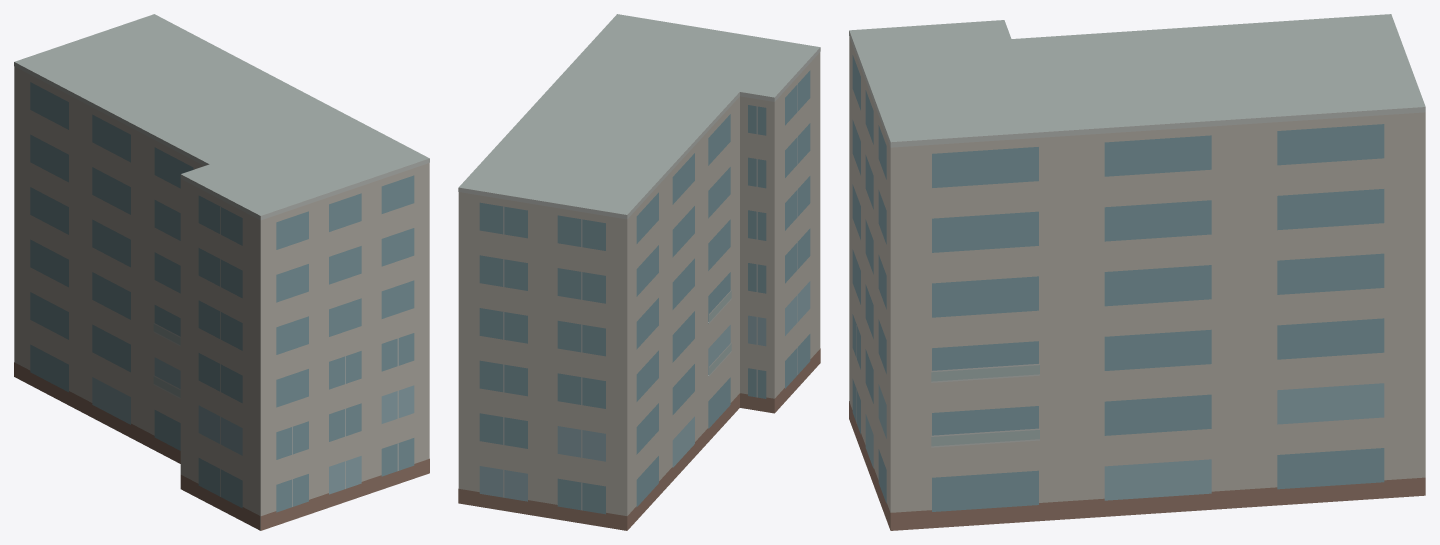
Rendered from survey-upis-32734496.glb.
The picture shows the model from 3 angles, left to right: view 1: azimuth 30°, elevation 25°; view 2: azimuth 150°, elevation 25°; view 3: azimuth 270°, elevation 25°; orthographic projection. The views are drawn at different scales.
Parts seen in each view (by area): view 1: survey-upis-32734496.tmp; view 2: survey-upis-32734496.tmp; view 3: survey-upis-32734496.tmp.
Part boxes in pixels (box(x1,y1,x2,y2)): survey-upis-32734496.tmp: box(14, 14, 429, 530); survey-upis-32734496.tmp: box(458, 14, 820, 530); survey-upis-32734496.tmp: box(849, 14, 1425, 530).
Bounding box in the file's own units: 12.32 × 17.4 × 23.4.
